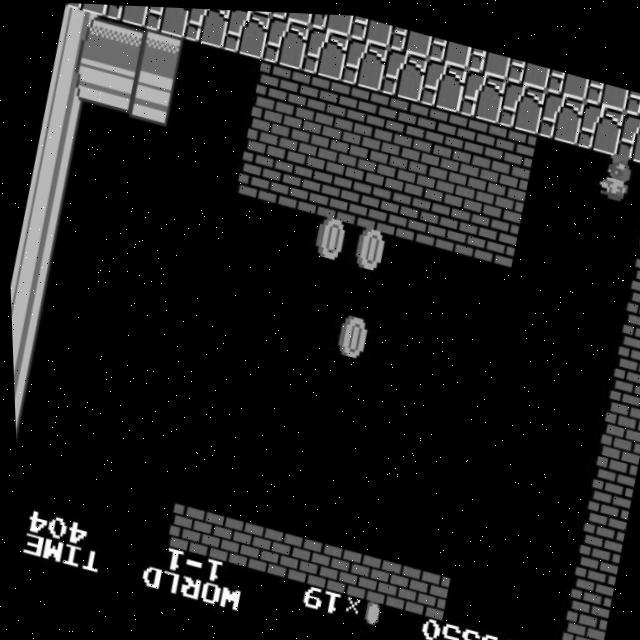1- brick_block: (486, 119, 538, 175), (437, 152, 489, 208), (398, 142, 450, 198), (407, 98, 459, 154), (278, 529, 330, 585), (359, 131, 411, 187), (368, 88, 420, 144), (160, 498, 212, 554), (241, 100, 293, 156), (317, 540, 369, 595), (311, 166, 363, 221), (280, 111, 332, 166), (250, 57, 302, 112), (580, 470, 631, 526), (396, 560, 447, 616), (357, 550, 408, 606), (239, 519, 290, 575), (320, 121, 371, 177), (329, 77, 380, 133), (200, 508, 251, 564), (290, 67, 341, 123), (350, 177, 402, 231), (562, 559, 613, 614), (571, 514, 622, 569), (589, 426, 640, 481), (477, 163, 528, 218), (429, 197, 480, 252), (447, 109, 498, 164), (390, 187, 441, 242), (272, 156, 323, 211), (233, 145, 284, 200), (468, 208, 519, 262), (598, 382, 640, 437), (553, 602, 604, 640), (607, 337, 640, 392), (616, 293, 640, 348), (625, 250, 640, 303), (634, 205, 640, 258)
11- little_mario: (589, 143, 640, 202)
14- pipe: (93, 15, 145, 71), (27, 138, 79, 194), (45, 50, 97, 105), (85, 59, 136, 115), (19, 182, 70, 238), (55, 5, 106, 61), (37, 94, 88, 149), (10, 227, 61, 281), (8, 270, 52, 326), (9, 315, 43, 370), (10, 360, 34, 414), (12, 405, 25, 458)
15- pipe_head: (124, 69, 175, 125), (133, 26, 184, 81)
17- undestructible_block: (573, 95, 625, 151), (455, 64, 507, 120), (416, 53, 468, 109), (338, 33, 390, 89), (495, 74, 546, 130), (377, 43, 428, 99), (299, 22, 350, 78), (260, 12, 311, 68), (534, 85, 585, 140), (220, 8, 271, 57), (181, 6, 232, 47), (142, 5, 193, 37), (583, 73, 629, 107), (544, 63, 590, 97), (465, 42, 511, 76), (387, 21, 433, 55), (612, 105, 640, 160), (426, 32, 472, 65), (347, 12, 393, 45), (505, 53, 550, 86), (103, 4, 154, 26), (308, 11, 354, 34), (65, 2, 115, 16), (269, 9, 314, 24), (622, 84, 640, 116)
2- coin: (323, 308, 375, 364), (341, 220, 393, 276), (302, 210, 353, 266)
